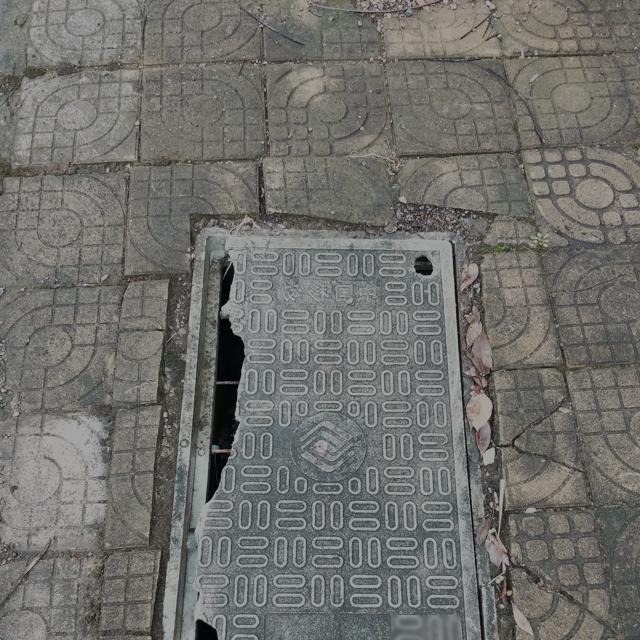broke: (152, 228, 490, 640)
